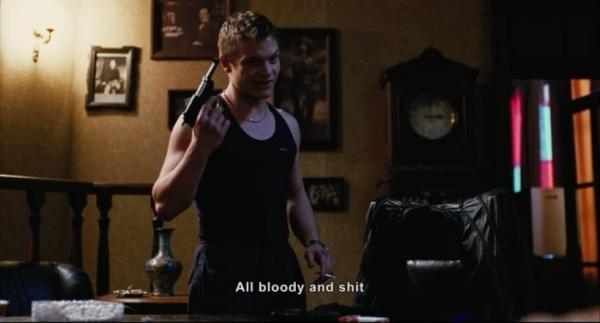Gun: (181, 58, 224, 128)
